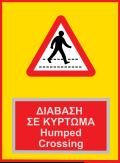Pedestrian Crossing: (21, 11, 98, 85)
